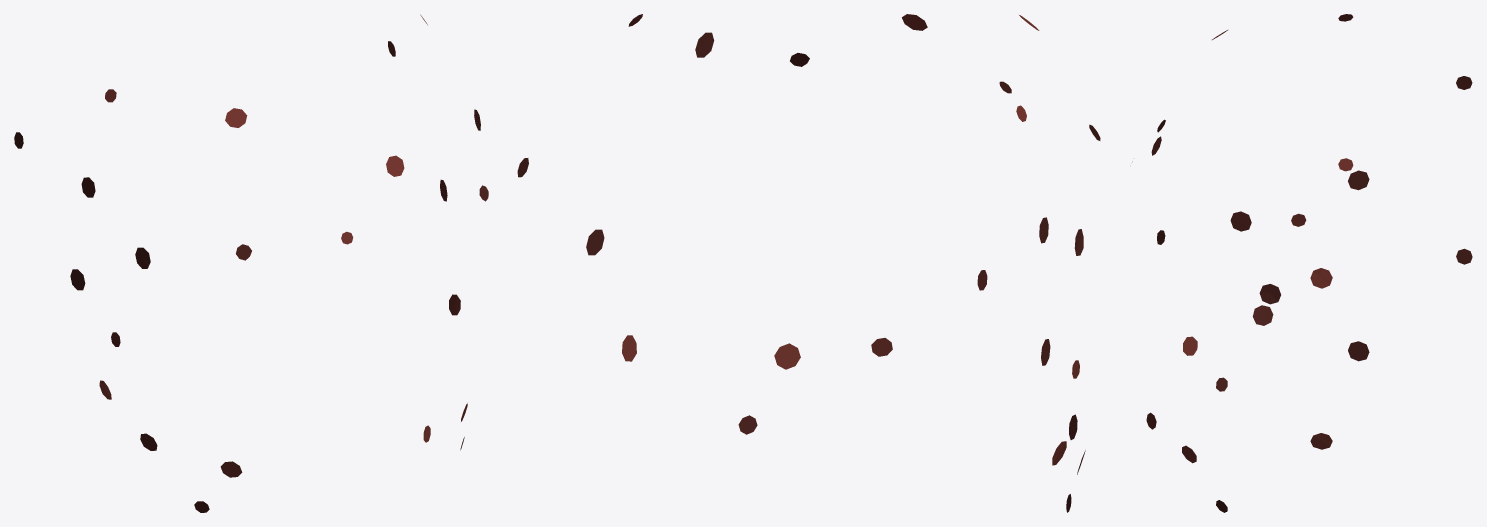
Rendered from miscPocks.glb.
3 renders of one model, left to right at view 1: azimuth 30°, elevation 25°; view 2: azimuth 150°, elevation 25°; view 3: azimuth 270°, elevation 25°, orthographic. The views are drawn at different scales.
Visible parts, largest first — view 1: miscPocks; view 2: miscPocks; view 3: miscPocks.
Part boxes in pixels (box(x1,y1,x2,y2)): miscPocks: box(14, 14, 488, 512); miscPocks: box(517, 14, 1100, 512); miscPocks: box(1132, 14, 1472, 512).
Size of the model in its own units: 0.2104 by 0.2118 by 0.1743.
